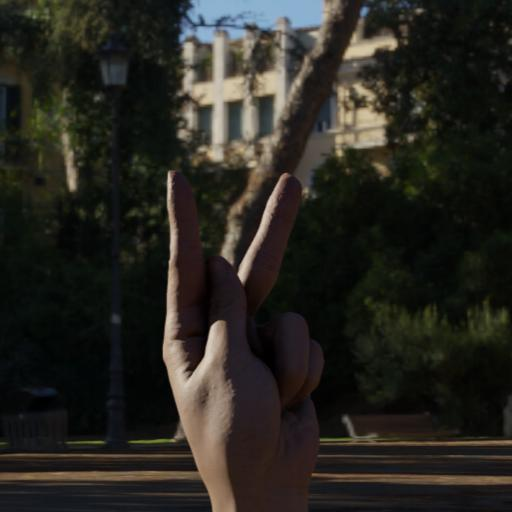K: (147, 160, 338, 512)
